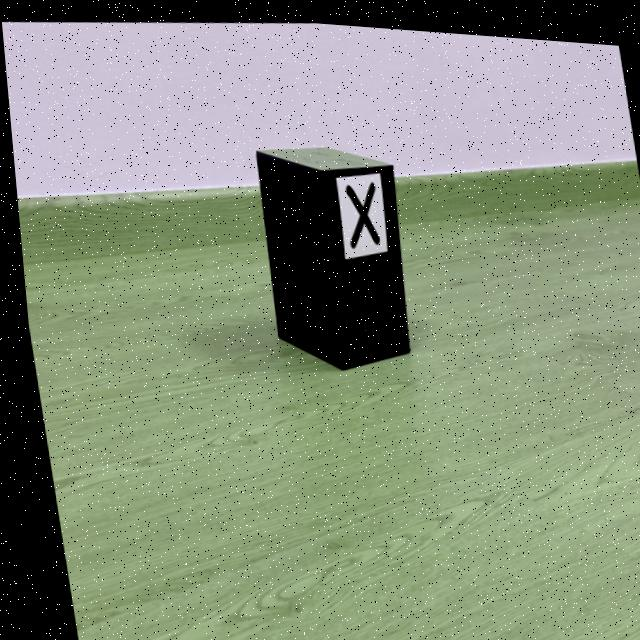X: (342, 176, 376, 243)
